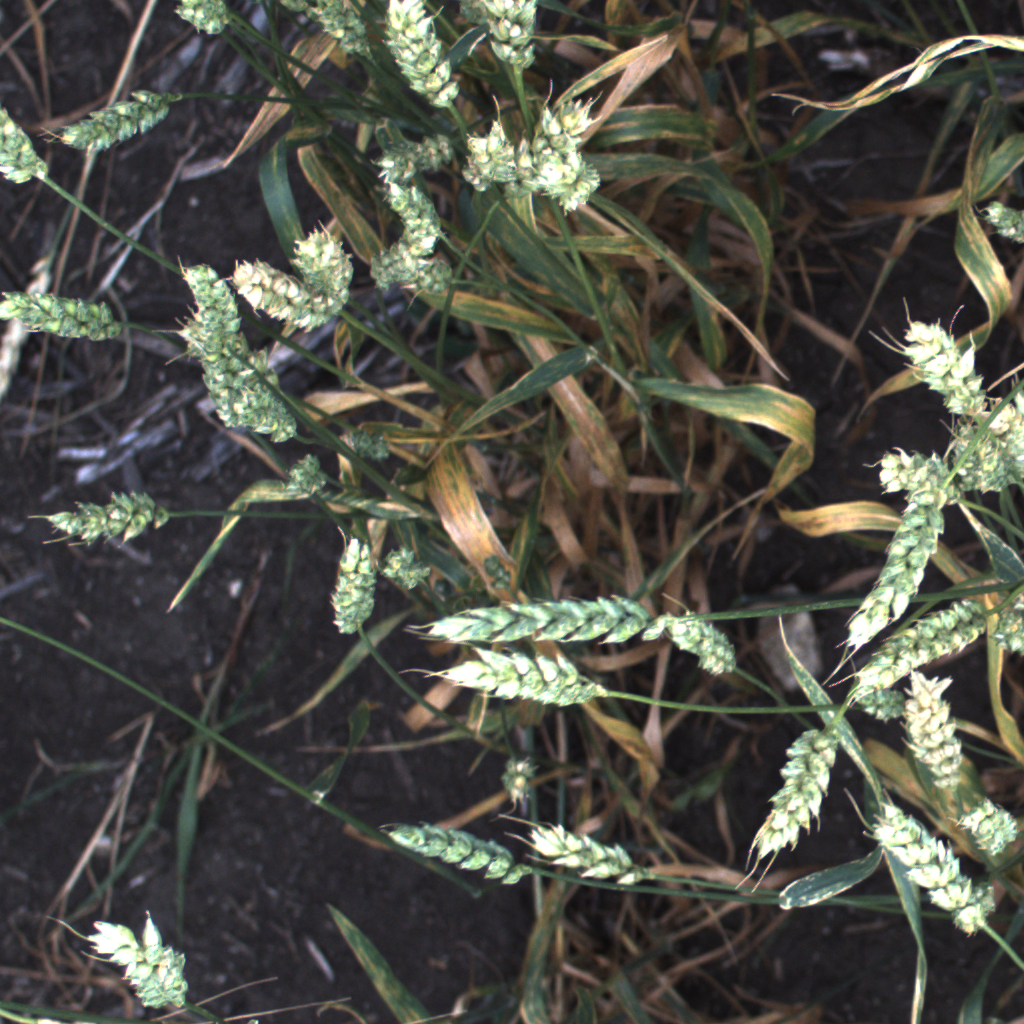wheat_head: (376, 0, 524, 194), (826, 480, 972, 659), (836, 580, 1002, 724), (858, 788, 1005, 941), (730, 707, 854, 871), (417, 580, 673, 654), (419, 638, 624, 720), (882, 663, 992, 810), (40, 458, 177, 571), (0, 276, 150, 365), (892, 311, 1006, 426), (384, 813, 540, 894), (224, 246, 350, 341), (178, 267, 276, 388), (528, 809, 669, 891), (53, 72, 182, 160), (88, 912, 195, 1013), (653, 600, 751, 687), (319, 518, 384, 641), (278, 217, 357, 308), (865, 440, 969, 507), (366, 213, 450, 293), (295, 0, 380, 75), (373, 175, 459, 249), (949, 788, 1022, 874), (367, 126, 463, 185), (479, 0, 548, 79), (168, 298, 242, 364), (952, 420, 1013, 488), (202, 349, 254, 427), (379, 535, 437, 603), (0, 93, 44, 179), (532, 99, 592, 153), (541, 155, 601, 209), (236, 388, 296, 441), (494, 748, 544, 809), (179, 1, 232, 39), (337, 432, 394, 462), (282, 460, 330, 494)
